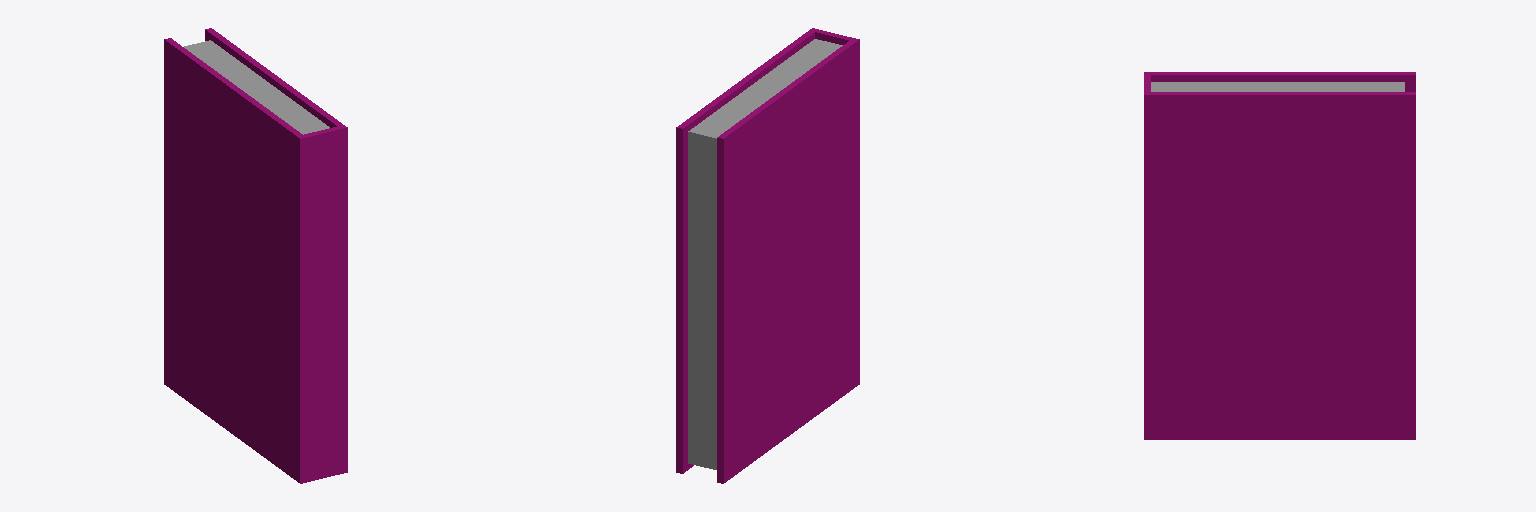
Rendered from book.obj.
3 views of the same model, side by side, from view 1: azimuth 30°, elevation 25°; view 2: azimuth 150°, elevation 25°; view 3: azimuth 270°, elevation 25° (orthographic).
Visible parts, largest first — view 1: 立方体; view 2: 立方体; view 3: 立方体.
Part boxes in pixels (x1,y1,x2,y2): 立方体: (164,28,347,483); 立方体: (676,28,859,483); 立方体: (1144,72,1415,439).
Bounding box in the file's own units: 0.03 × 0.21 × 0.15.